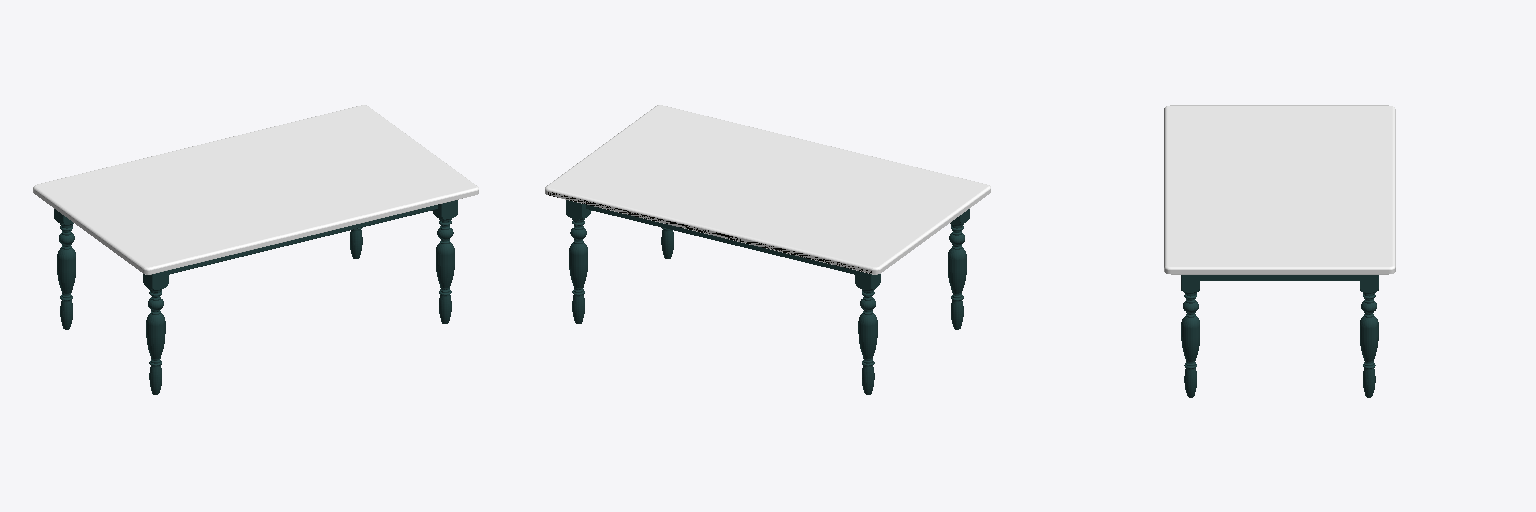
The picture shows the model from 3 angles: view 1: azimuth 30°, elevation 25°; view 2: azimuth 150°, elevation 25°; view 3: azimuth 270°, elevation 25°; orthographic projection.
Visible parts, largest first — view 1: mesh1_mesh1-geometry, mesh7_mesh7-geometry, mesh6_mesh6-geometry, mesh5_mesh5-geometry; view 2: mesh1_mesh1-geometry, mesh6_mesh6-geometry, mesh7_mesh7-geometry, mesh4_mesh4-geometry; view 3: mesh1_mesh1-geometry, mesh6_mesh6-geometry, mesh7_mesh7-geometry, mesh5_mesh5-geometry.
Part boxes in pixels (bbox=[...]): mesh1_mesh1-geometry: bbox=[33, 105, 478, 274]; mesh7_mesh7-geometry: bbox=[54, 200, 457, 329]; mesh6_mesh6-geometry: bbox=[143, 227, 362, 394]; mesh5_mesh5-geometry: bbox=[169, 205, 437, 274]; mesh1_mesh1-geometry: bbox=[545, 105, 990, 274]; mesh6_mesh6-geometry: bbox=[566, 200, 969, 329]; mesh7_mesh7-geometry: bbox=[661, 227, 880, 394]; mesh4_mesh4-geometry: bbox=[586, 205, 854, 274]; mesh1_mesh1-geometry: bbox=[1164, 105, 1395, 274]; mesh6_mesh6-geometry: bbox=[1360, 275, 1378, 397]; mesh7_mesh7-geometry: bbox=[1181, 275, 1199, 397]; mesh5_mesh5-geometry: bbox=[1200, 275, 1359, 280].
Bounding box in the file's own units: 0.8128 × 0.3223 × 0.4853.
5 materials, 2 textured.